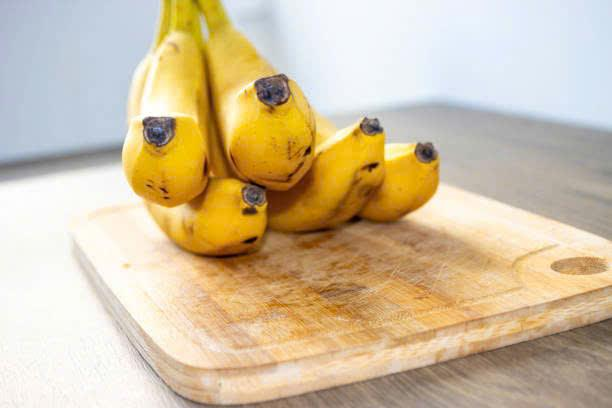banana: (132, 0, 450, 245)
